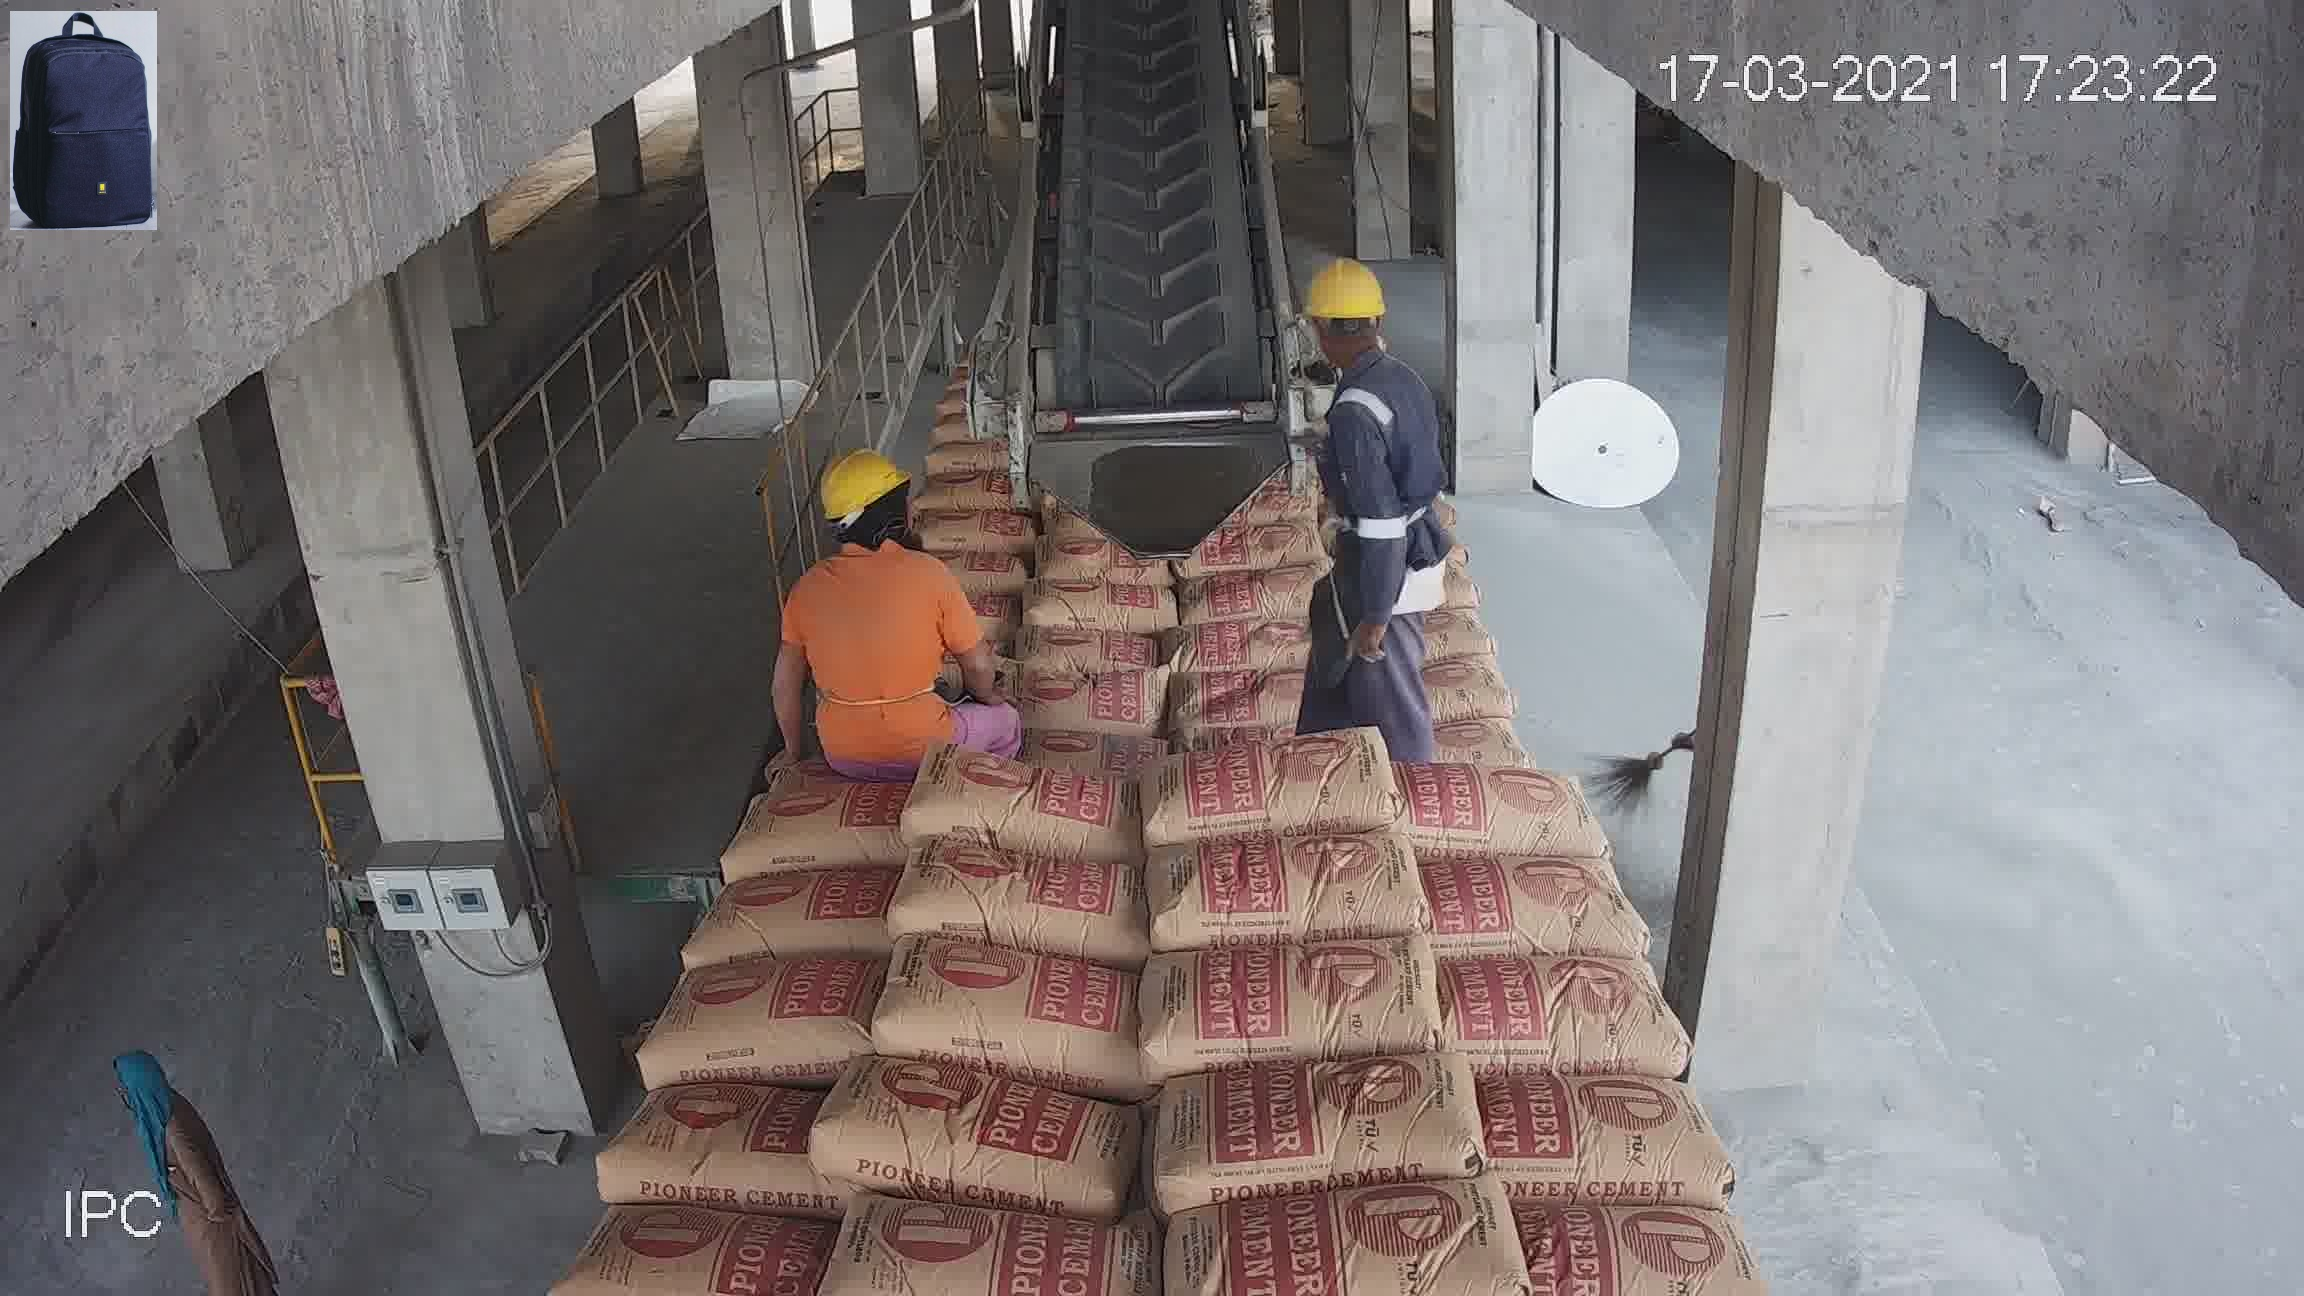bag: (1112, 165, 1212, 277)
bag_h: (1166, 1036, 1470, 1190), (810, 1054, 1135, 1192), (1180, 1177, 1527, 1296), (1128, 938, 1453, 1059), (861, 945, 1146, 1074), (1478, 1074, 1711, 1211), (600, 1071, 831, 1204), (1169, 824, 1412, 946), (1166, 555, 1388, 680), (1138, 663, 1402, 764), (896, 843, 1157, 943), (654, 954, 885, 1062), (1143, 731, 1388, 832), (1445, 961, 1681, 1063), (877, 767, 1146, 855), (584, 1209, 853, 1293), (1366, 674, 1586, 775), (831, 1220, 1147, 1290), (695, 853, 915, 953), (1514, 1198, 1737, 1294), (1437, 850, 1628, 956), (736, 699, 945, 794), (1400, 755, 1593, 855), (945, 680, 1152, 767), (729, 777, 907, 877), (775, 636, 956, 723), (949, 623, 1150, 696), (791, 574, 968, 649), (1386, 619, 1559, 692), (1166, 530, 1348, 597), (975, 544, 1146, 603), (1369, 554, 1503, 622), (892, 502, 1049, 546), (1331, 483, 1461, 524), (1331, 451, 1445, 495), (1348, 516, 1483, 552), (889, 549, 1017, 585), (926, 468, 1032, 506), (911, 438, 1000, 472)
belt: (1052, 22, 1252, 380)
